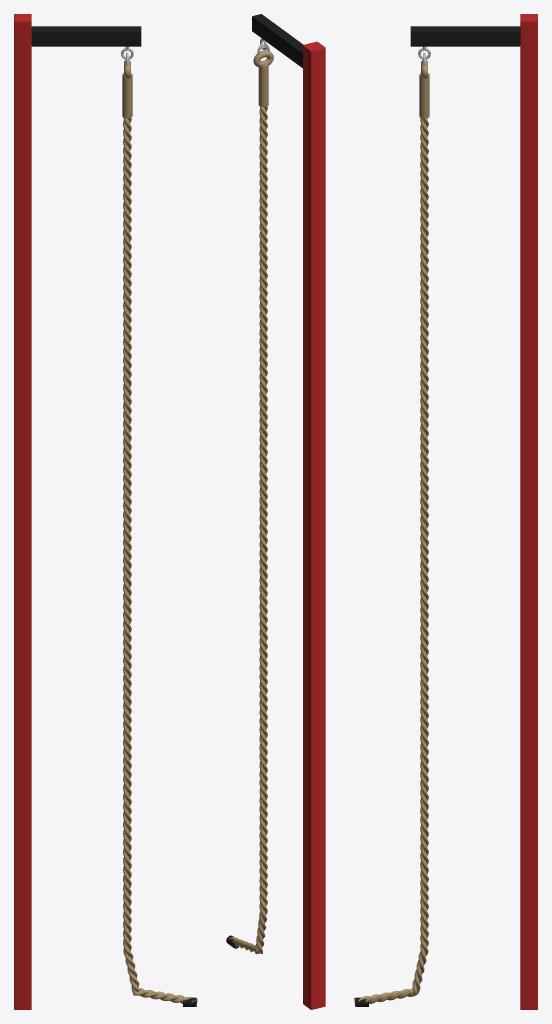
The model's file is rogue-climbing-ropes_v001.glb.
The picture shows the model from 3 angles, left to right: view 1: azimuth 90°, elevation 25°; view 2: azimuth 210°, elevation 25°; view 3: azimuth 270°, elevation 25°; orthographic projection. The views are drawn at different scales.
Visible parts, largest first — view 1: rogue-climbing-ropes_red, rogue-climbing-ropes_manila, rogue-climbing-ropes_frame, rogue-climbing-ropes_manila.001; view 2: rogue-climbing-ropes_red, rogue-climbing-ropes_manila, rogue-climbing-ropes_frame, rogue-climbing-ropes_manila.001; view 3: rogue-climbing-ropes_red, rogue-climbing-ropes_manila, rogue-climbing-ropes_frame, rogue-climbing-ropes_manila.001.
Part boxes in pixels (<box>): rogue-climbing-ropes_red: <box>14,14,31,1009</box>; rogue-climbing-ropes_manila: <box>123,60,197,1004</box>; rogue-climbing-ropes_frame: <box>31,26,141,46</box>; rogue-climbing-ropes_manila.001: <box>122,73,132,118</box>; rogue-climbing-ropes_red: <box>303,41,325,1009</box>; rogue-climbing-ropes_manila: <box>228,50,273,953</box>; rogue-climbing-ropes_frame: <box>252,14,303,68</box>; rogue-climbing-ropes_manila.001: <box>258,65,268,106</box>; rogue-climbing-ropes_red: <box>520,14,537,1009</box>; rogue-climbing-ropes_manila: <box>354,60,428,1004</box>; rogue-climbing-ropes_frame: <box>410,26,520,46</box>; rogue-climbing-ropes_manila.001: <box>419,73,429,118</box>.
Size of the model in its own units: 0.101 by 4.7 by 0.7916.
